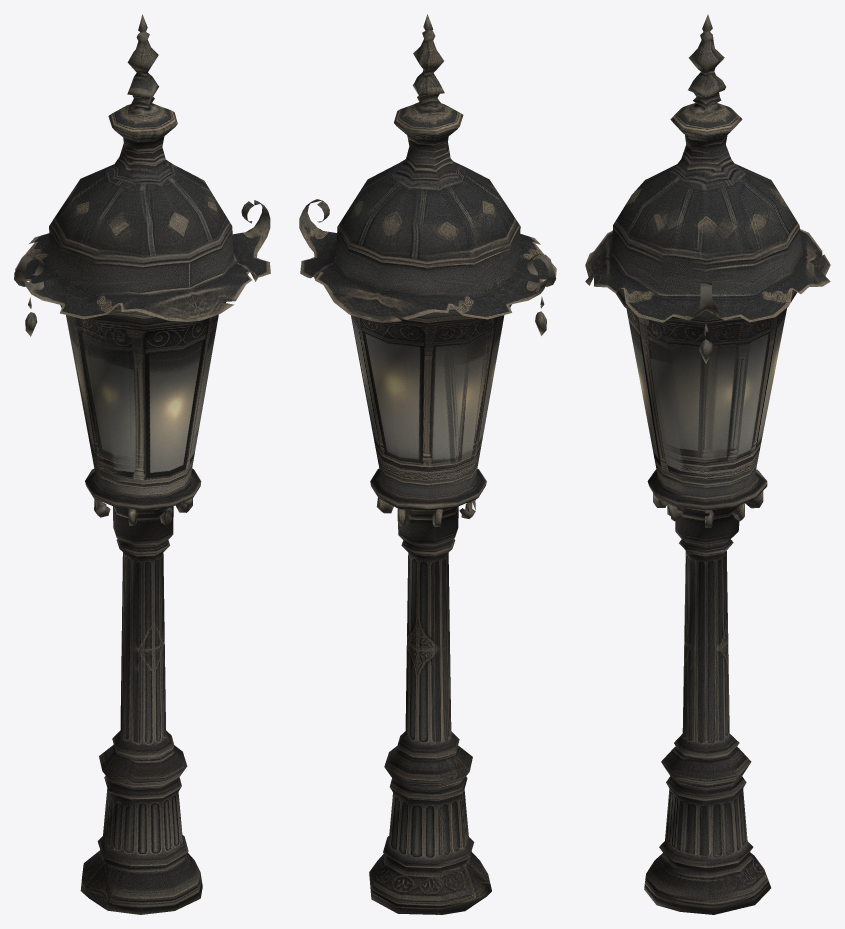
Rendered from lamp.glb.
3 renders of one model, left to right at view 1: azimuth 30°, elevation 25°; view 2: azimuth 150°, elevation 25°; view 3: azimuth 270°, elevation 25°, orthographic.
Size of the model in its own units: 0.2827 by 0.9521 by 0.2422.
1 material, 1 textured.
